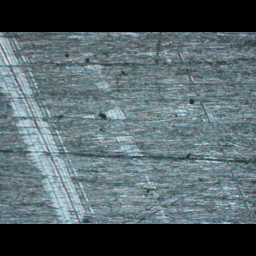d: (71, 32, 170, 223), (0, 34, 99, 223)
